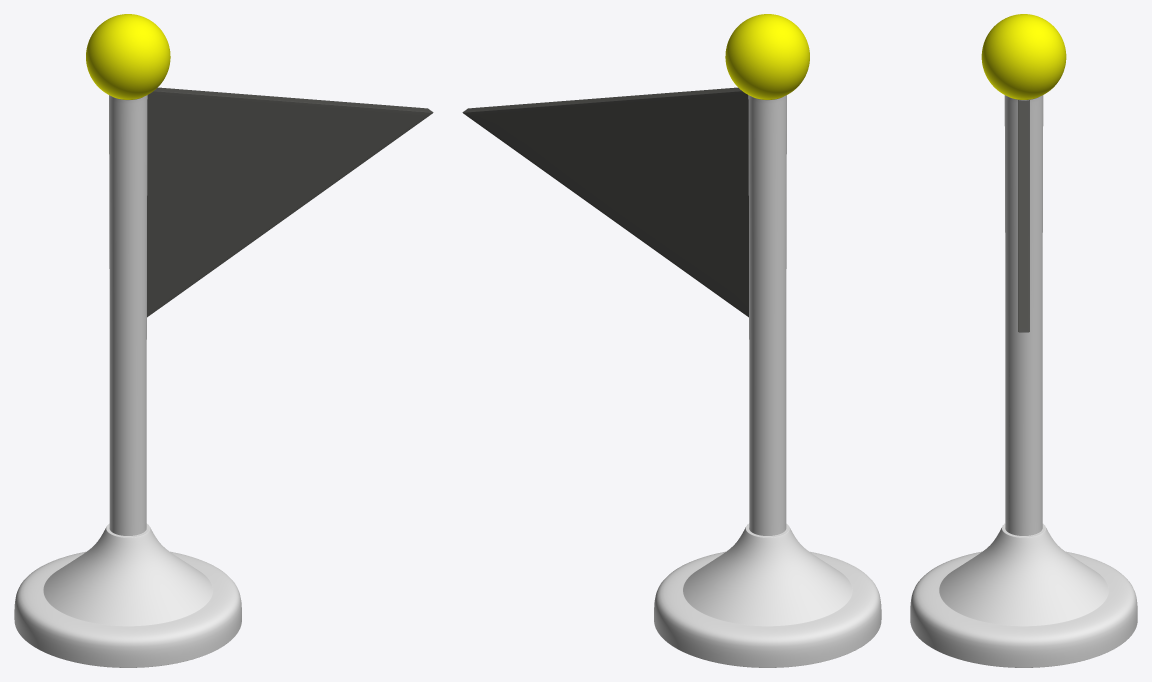
The model's file is checkpoint.fbx.
3 renders of one model, left to right at view 1: azimuth 30°, elevation 25°; view 2: azimuth 150°, elevation 25°; view 3: azimuth 270°, elevation 25°, orthographic.
Visible parts, largest first — view 1: checkpointpole, checkpointhata; view 2: checkpointpole, checkpointhata; view 3: checkpointpole, checkpointhata.
Part boxes in pixels (x1,y1,x2,y2): checkpointpole: [14, 14, 241, 667]; checkpointhata: [147, 87, 433, 317]; checkpointpole: [654, 14, 881, 667]; checkpointhata: [462, 87, 748, 317]; checkpointpole: [910, 14, 1137, 667]; checkpointhata: [1018, 100, 1029, 332].
Bounding box in the file's own units: 41.96 × 60.18 × 20.62.
